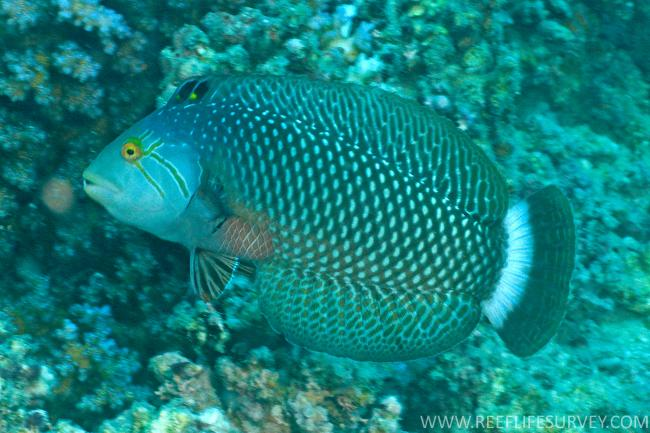fish: (81, 74, 578, 362)
